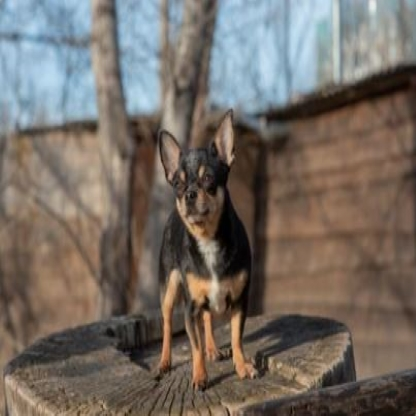chihuahua: (154, 107, 262, 389)
